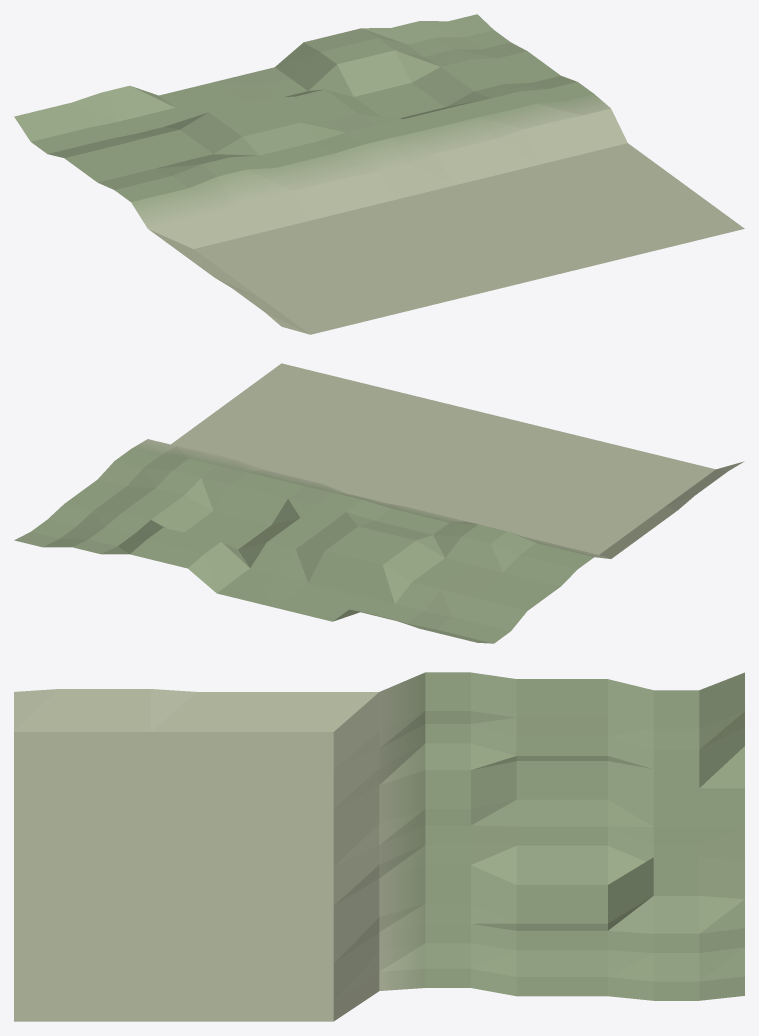
The picture shows the model from 3 angles, top to bottom: view 1: azimuth 30°, elevation 25°; view 2: azimuth 150°, elevation 25°; view 3: azimuth 270°, elevation 25°; orthographic projection. The views are drawn at different scales.
Size of the model in its own units: 32 by 2.34 by 32.
